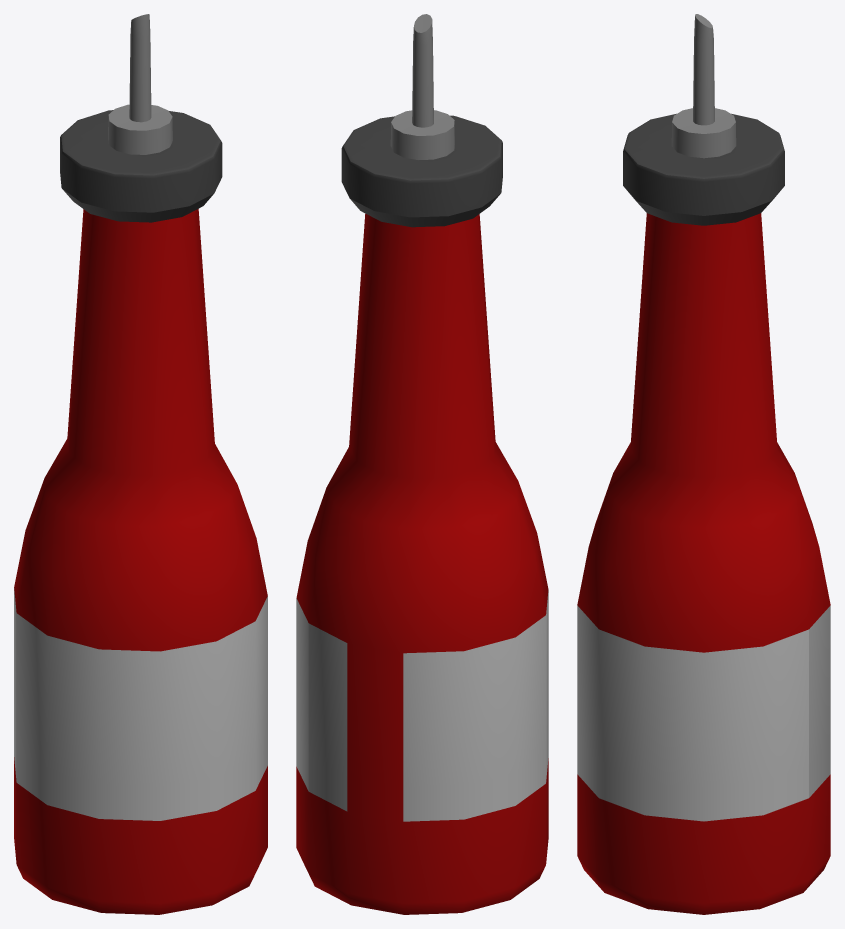
The model's file is ketchup_bottle.fbx.
3 renders of one model, left to right at view 1: azimuth 30°, elevation 25°; view 2: azimuth 150°, elevation 25°; view 3: azimuth 270°, elevation 25°, orthographic.
Visible parts, largest first — view 1: pCylinder1; view 2: pCylinder1; view 3: pCylinder1.
Boxes of the visible parts, x1,y1,x2,y2 form: pCylinder1: (14,14,267,914); pCylinder1: (296,14,548,914); pCylinder1: (577,14,830,914).
Size of the model in its own units: 29.52 by 111 by 29.74.
